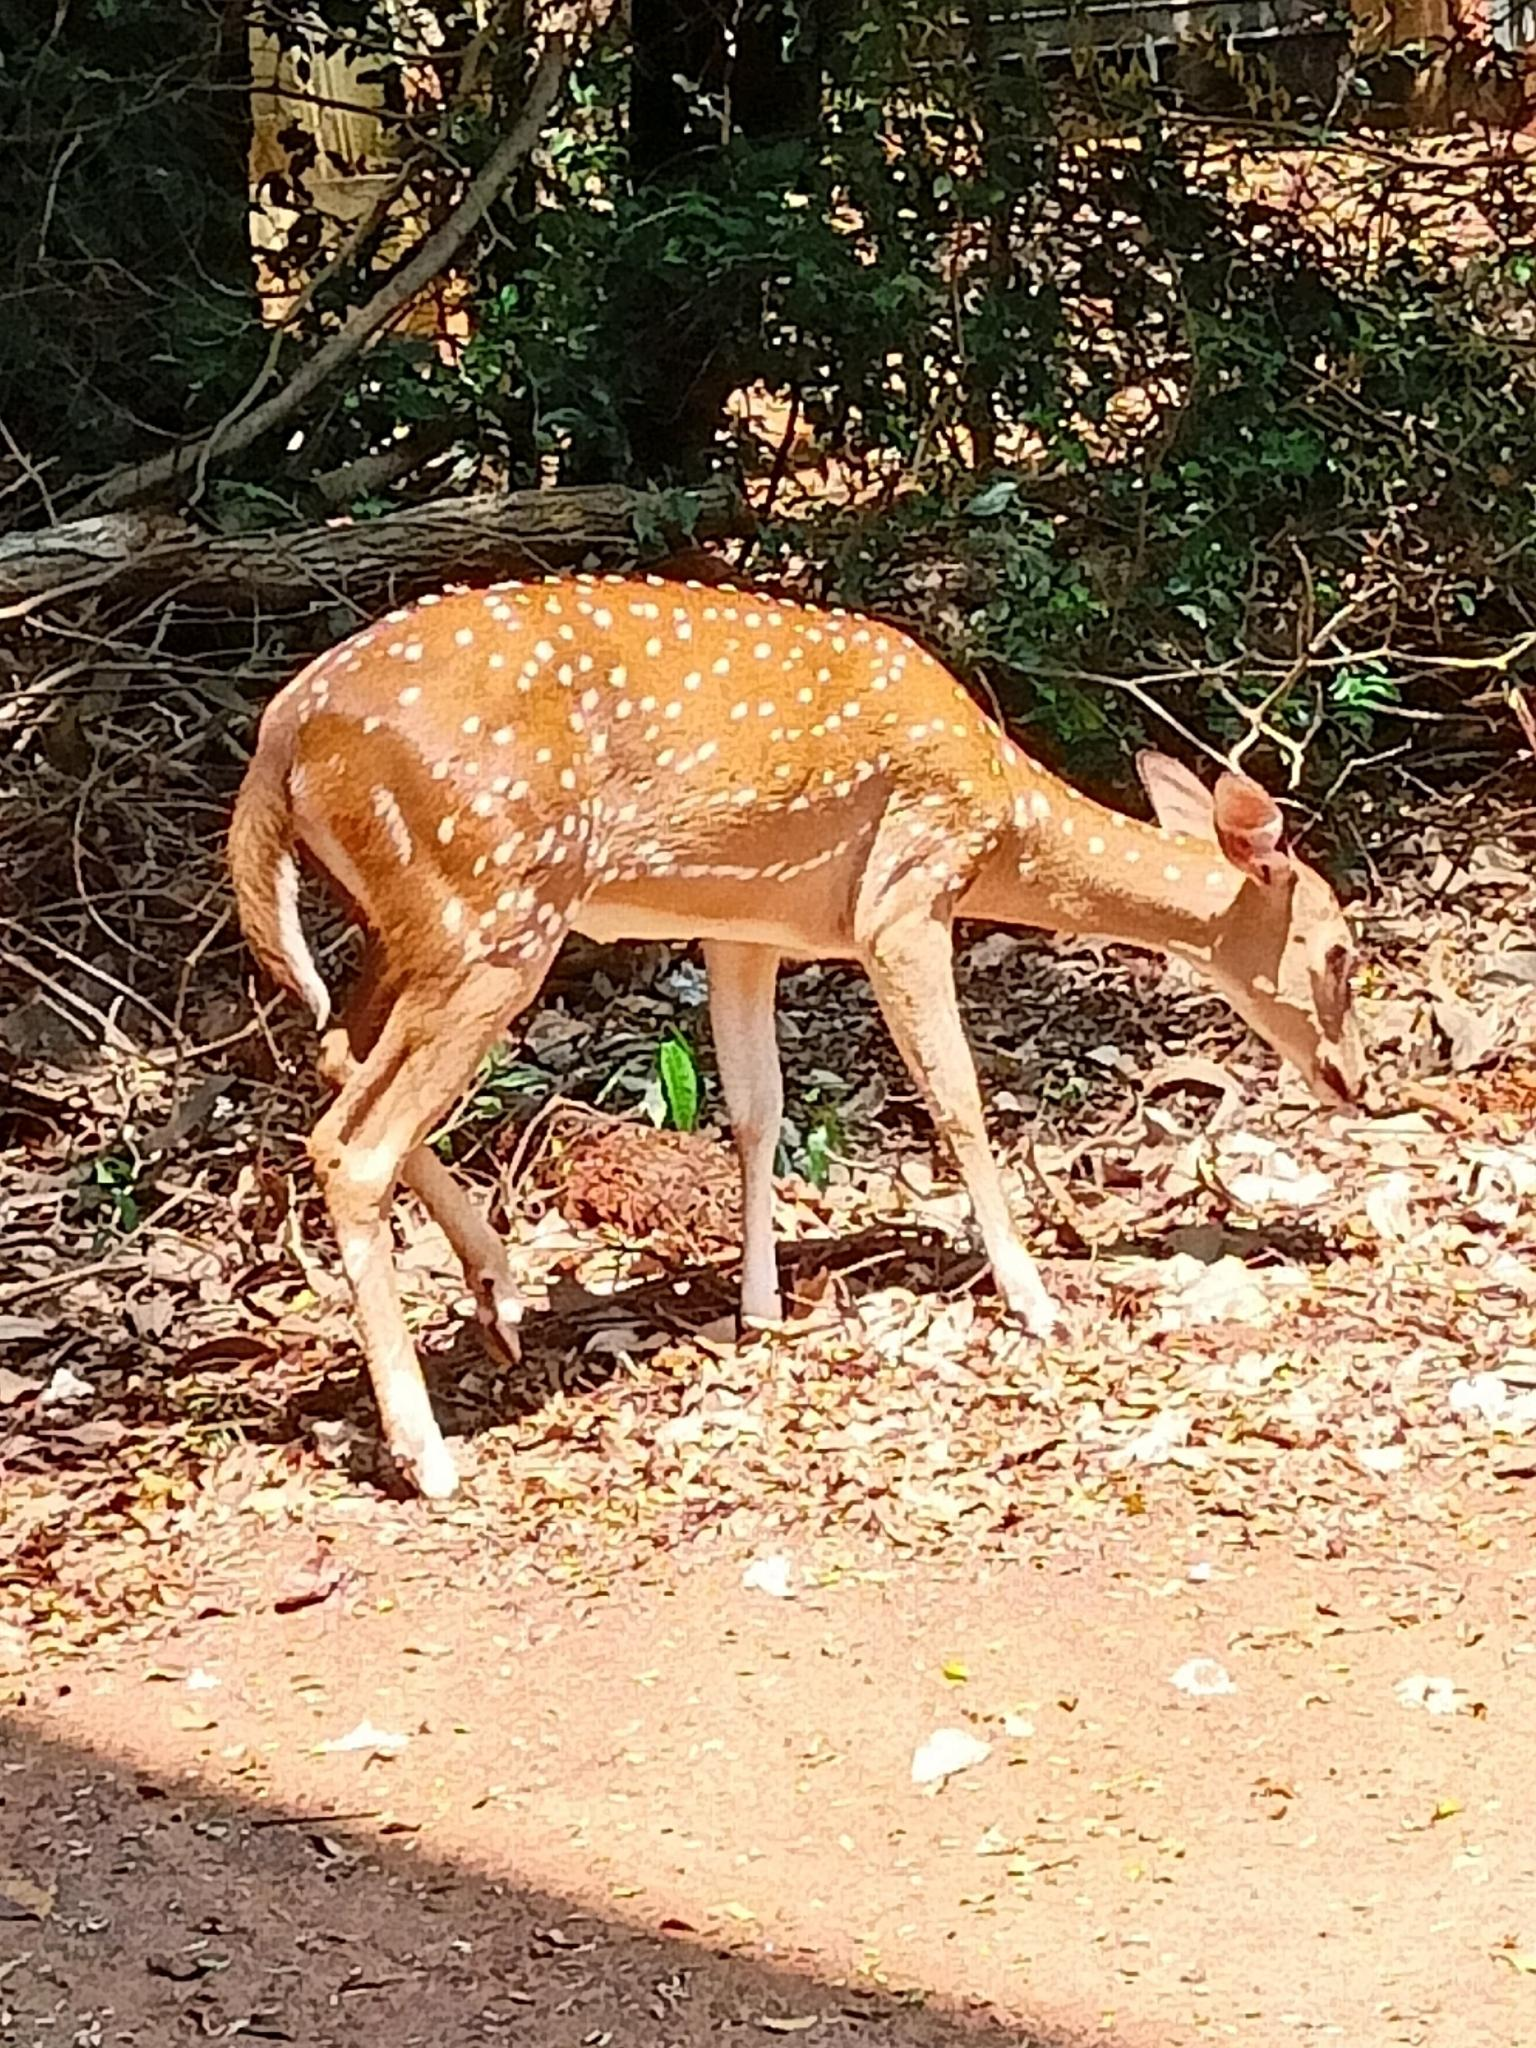Deer: (227, 576, 1363, 1498)
